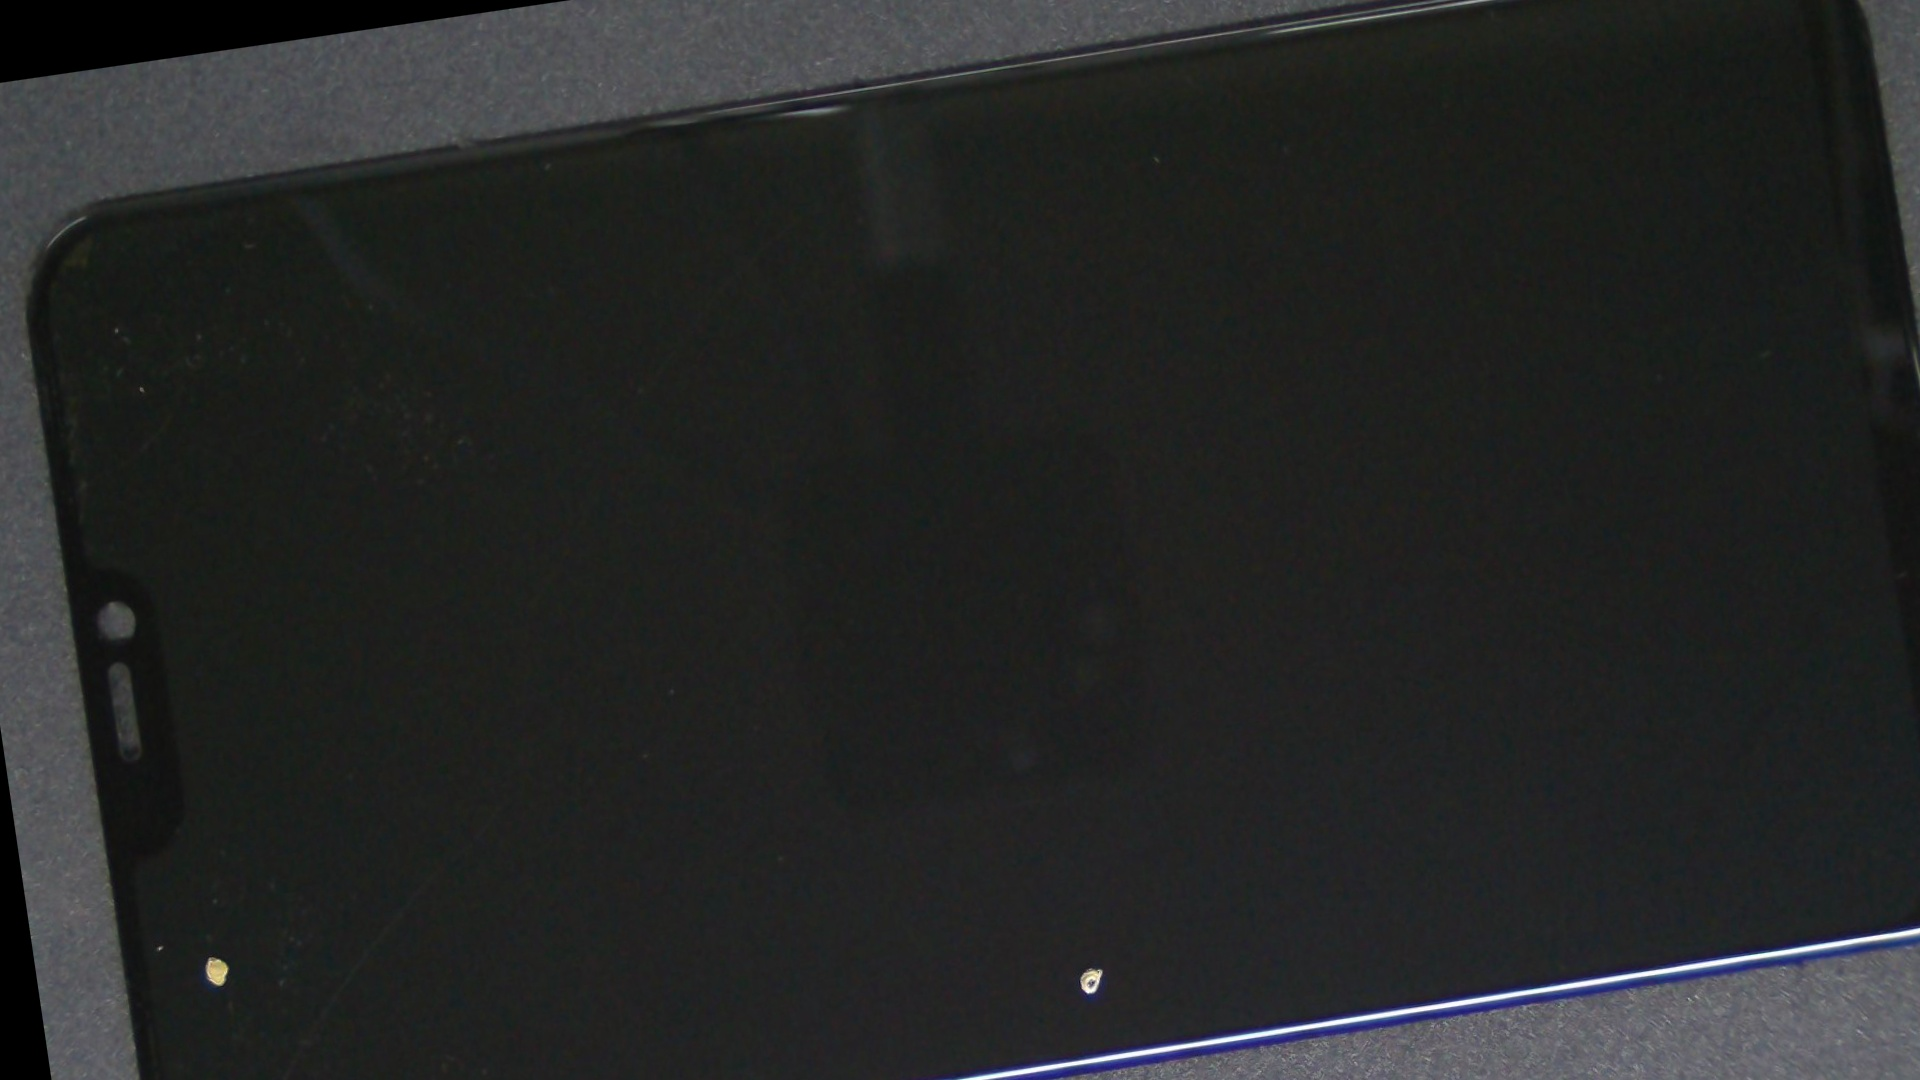oil: (498, 381, 1636, 1080), (61, 498, 357, 1080)
